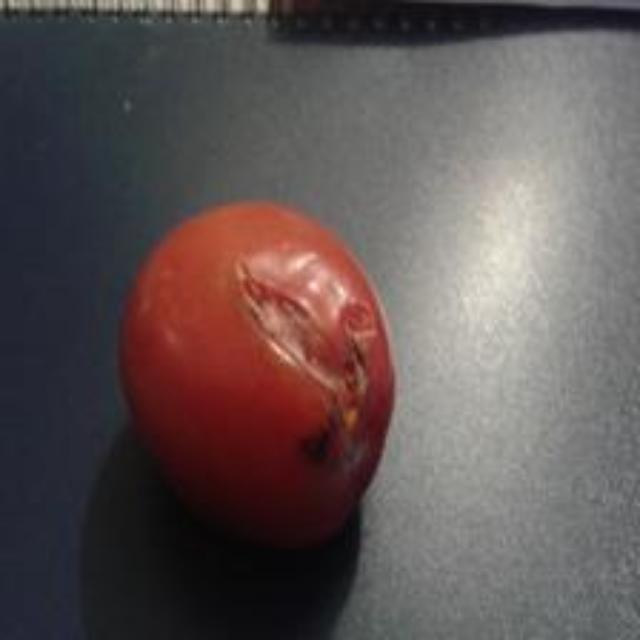defect: (121, 197, 398, 554)
